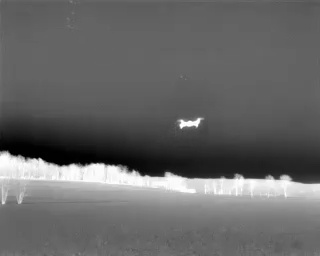DRONE: (172, 112, 208, 136)
